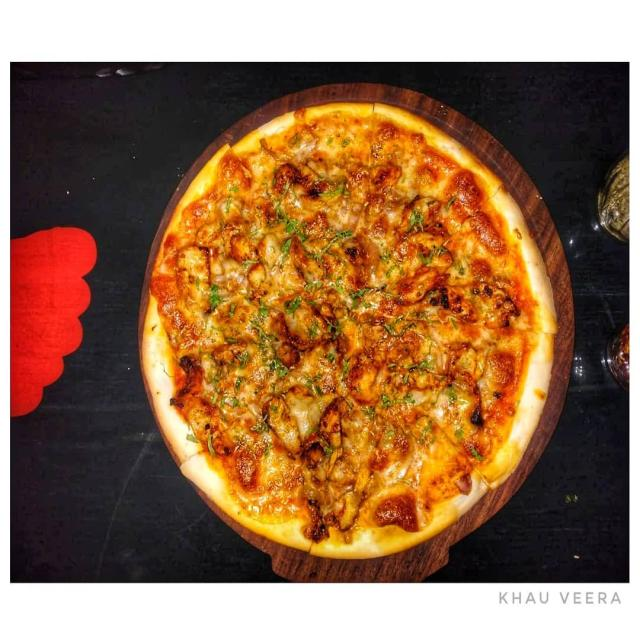basil: (255, 185, 297, 228), (375, 383, 414, 421), (384, 306, 416, 344), (399, 354, 431, 382), (330, 348, 356, 381), (322, 279, 358, 300), (346, 288, 380, 310), (419, 246, 452, 268), (307, 181, 349, 197), (282, 219, 308, 241), (256, 302, 269, 344), (326, 228, 353, 248), (267, 354, 289, 378), (333, 309, 350, 340), (406, 209, 424, 232), (209, 285, 222, 309), (445, 384, 457, 404), (304, 279, 322, 291), (290, 295, 302, 312), (281, 239, 291, 256), (241, 355, 250, 367), (235, 378, 242, 393), (231, 397, 239, 406)
pizza: (142, 104, 554, 556)
